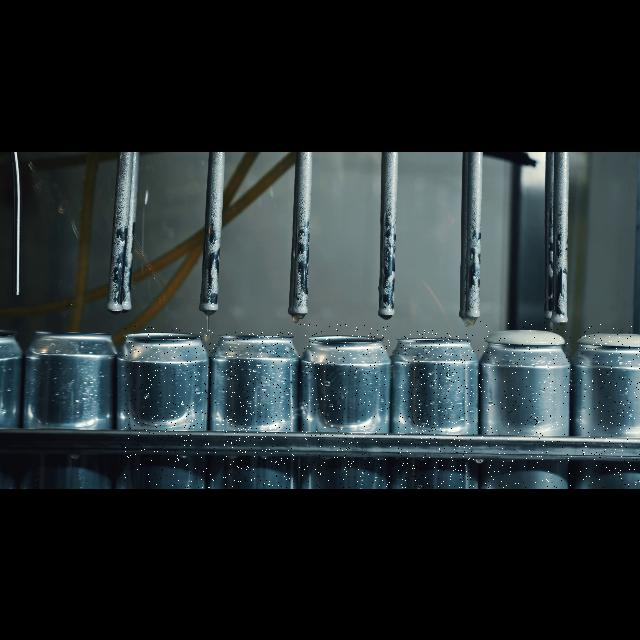empty: (19, 318, 117, 488), (299, 324, 391, 488), (124, 326, 216, 488), (398, 330, 474, 488), (222, 332, 294, 488)
full: (478, 320, 572, 488), (580, 324, 640, 488)
